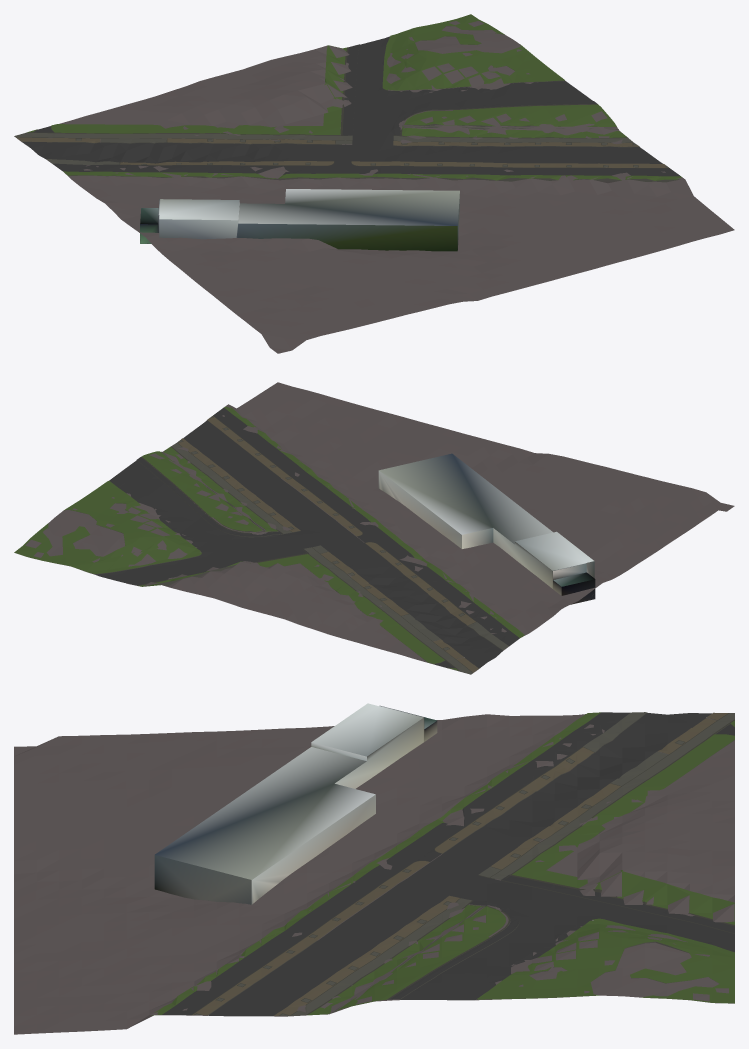
3 renders of one model, top to bottom at view 1: azimuth 30°, elevation 25°; view 2: azimuth 150°, elevation 25°; view 3: azimuth 270°, elevation 25°, orthographic. The views are drawn at different scales.
Visible parts, largest first — view 1: c_m18_m03; view 2: c_m18_m03; view 3: c_m18_m03.
Boxes of the visible parts, box(x1,y1,x2,y2) form: c_m18_m03: box(14, 14, 734, 353); c_m18_m03: box(14, 382, 734, 674); c_m18_m03: box(14, 703, 734, 1034).
Size of the model in its own units: 128 by 11.22 by 128.
